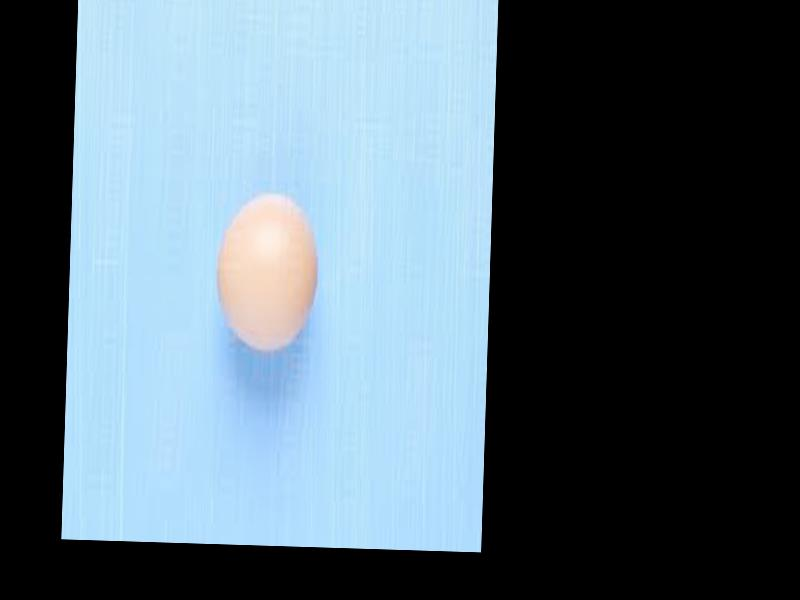Eggs: (215, 189, 319, 357)
